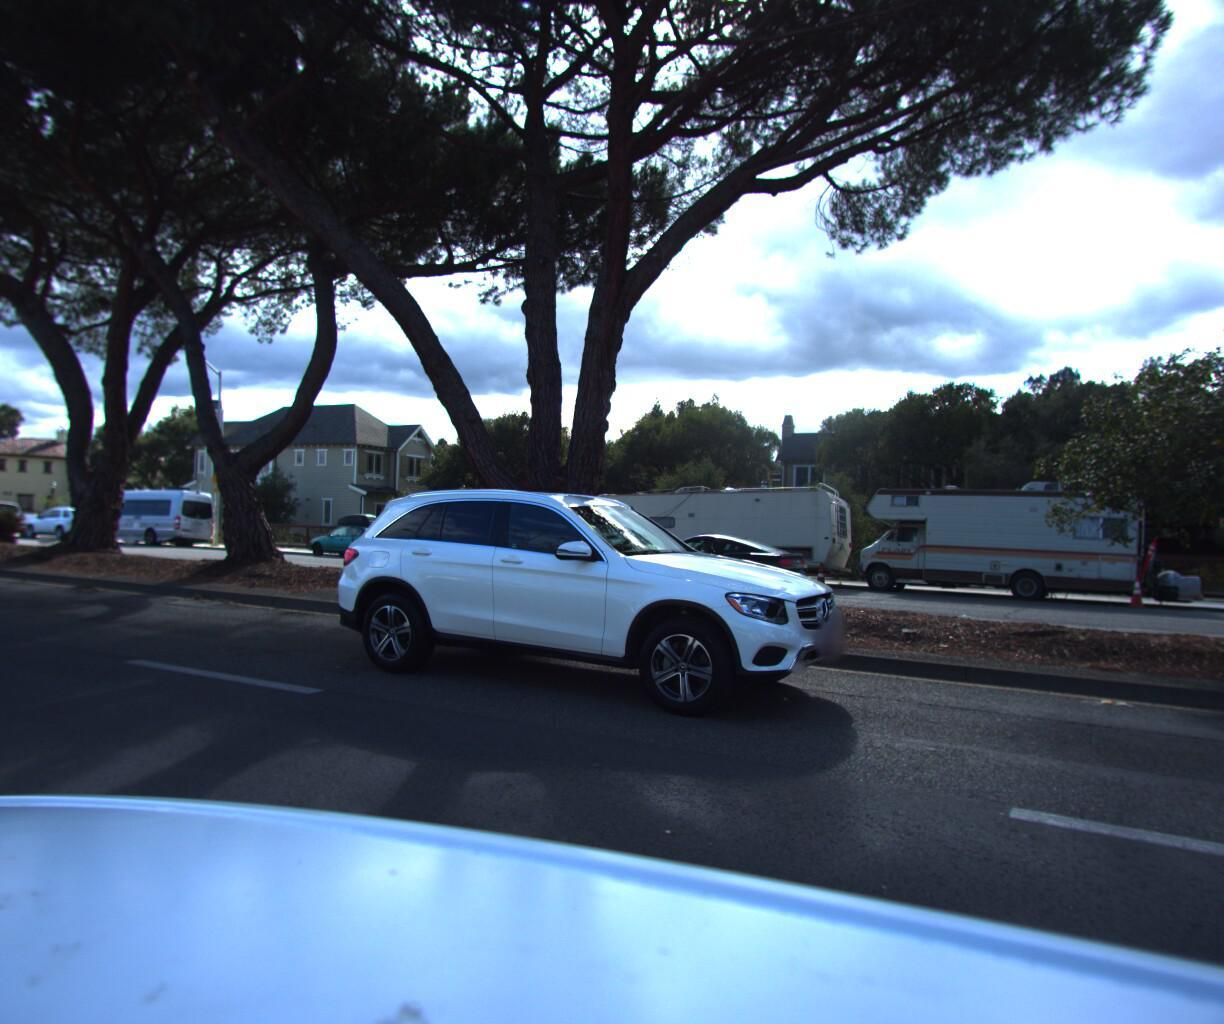car: (329, 476, 857, 726), (596, 520, 823, 599), (80, 477, 219, 544), (295, 504, 397, 554), (15, 498, 106, 538)
other_vehicle: (851, 472, 1152, 603), (552, 473, 863, 586)
